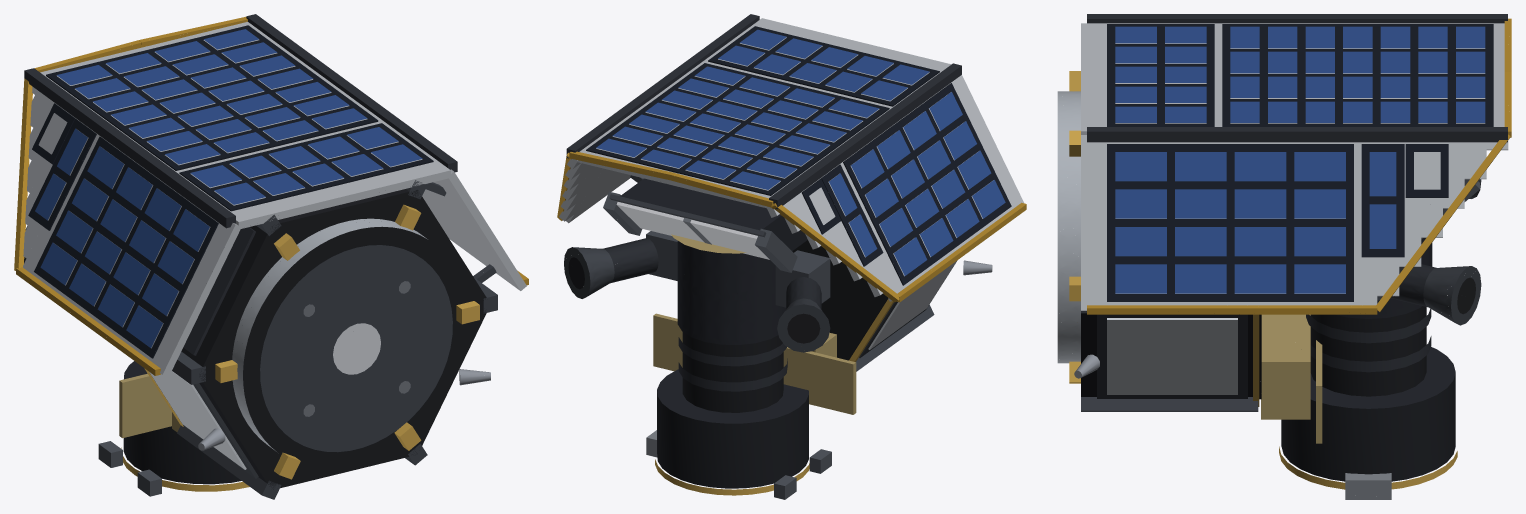
File: cheops.glb
3 renders of one model, left to right at view 1: azimuth 30°, elevation 25°; view 2: azimuth 150°, elevation 25°; view 3: azimuth 270°, elevation 25°, orthographic. The views are drawn at different scales.
Visible parts, largest first — view 1: body, solar-panel, foil; view 2: body, solar-panel, foil; view 3: body, solar-panel, foil.
Part boxes in pixels (left/top/right/bottom): body: left=23, top=14, right=526, bottom=499; solar-panel: left=35, top=29, right=422, bottom=347; foil: left=14, top=16, right=528, bottom=491; body: left=559, top=14, right=1023, bottom=499; solar-panel: left=568, top=29, right=1005, bottom=343; foil: left=557, top=151, right=1026, bottom=495; body: left=1057, top=14, right=1508, bottom=499; solar-panel: left=1115, top=26, right=1485, bottom=314; foil: left=1069, top=18, right=1511, bottom=489.
Size of the model in its own units: 1.55 by 1.46 by 1.57.
